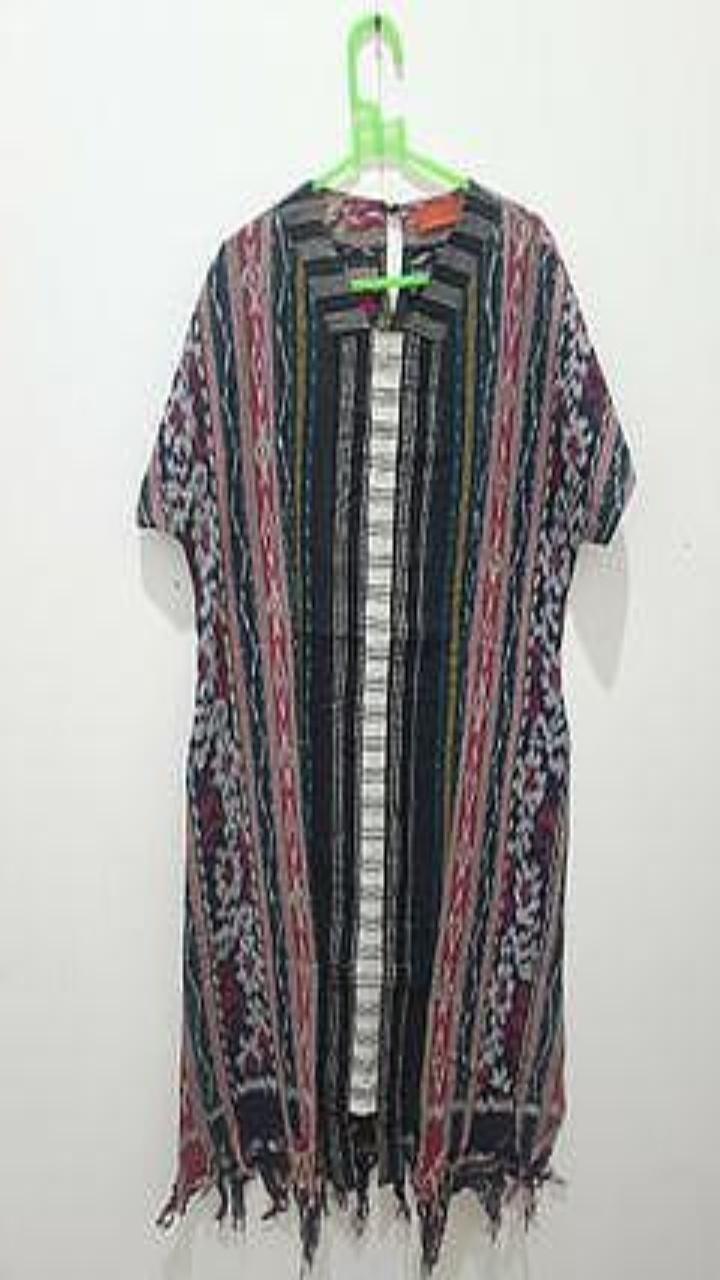T-Shirt: (137, 178, 634, 1270)
